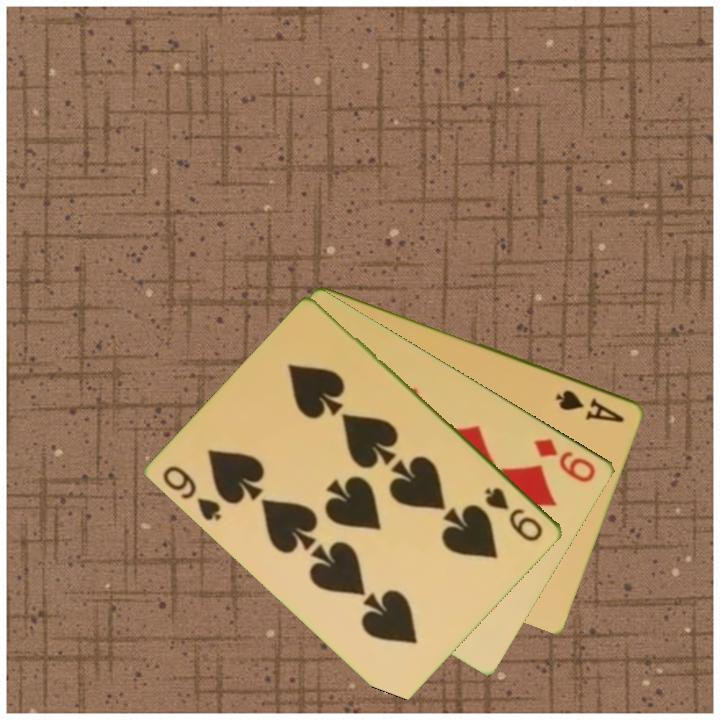9d: (531, 434, 599, 486)
9s: (481, 483, 547, 545), (159, 462, 225, 524)
As: (553, 385, 628, 426)
